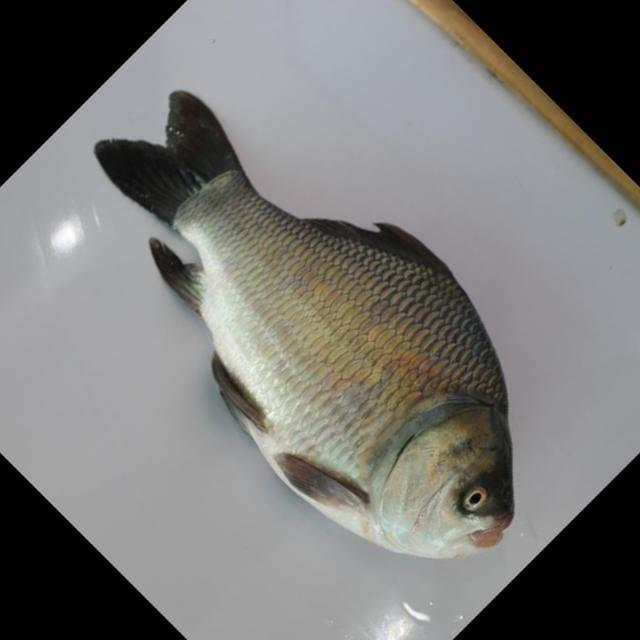Catla: (71, 86, 521, 558)
